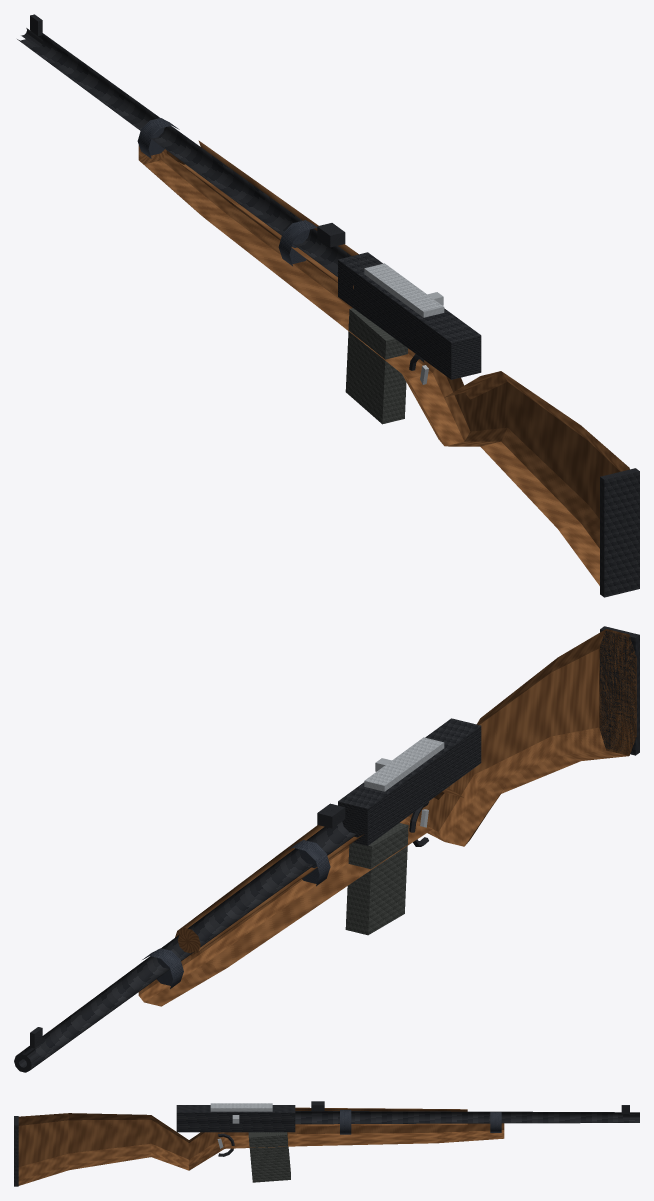
3 renders of one model, top to bottom at view 1: azimuth 30°, elevation 25°; view 2: azimuth 150°, elevation 25°; view 3: azimuth 270°, elevation 25°, orthographic. The views are drawn at different scales.
Visible parts, largest first — view 1: WeaponMesh; view 2: WeaponMesh; view 3: WeaponMesh.
Part boxes in pixels (box(x1,y1,x2,y2)): WeaponMesh: box(17, 14, 639, 597); WeaponMesh: box(14, 626, 639, 1072); WeaponMesh: box(14, 1101, 639, 1186).
Bounding box in the file's own units: 0.055 × 0.156 × 1.11.
Materials: 5 (5 with a texture image).
